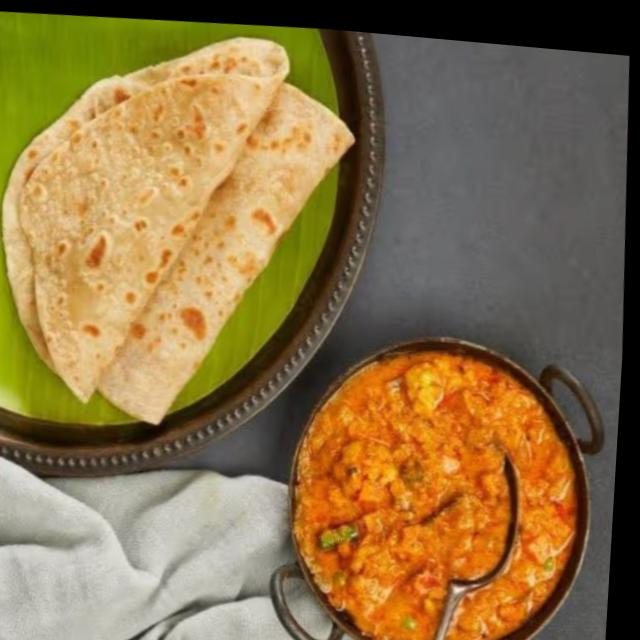CHAPATHI: (0, 38, 355, 426)
KURMA: (297, 353, 579, 640)
